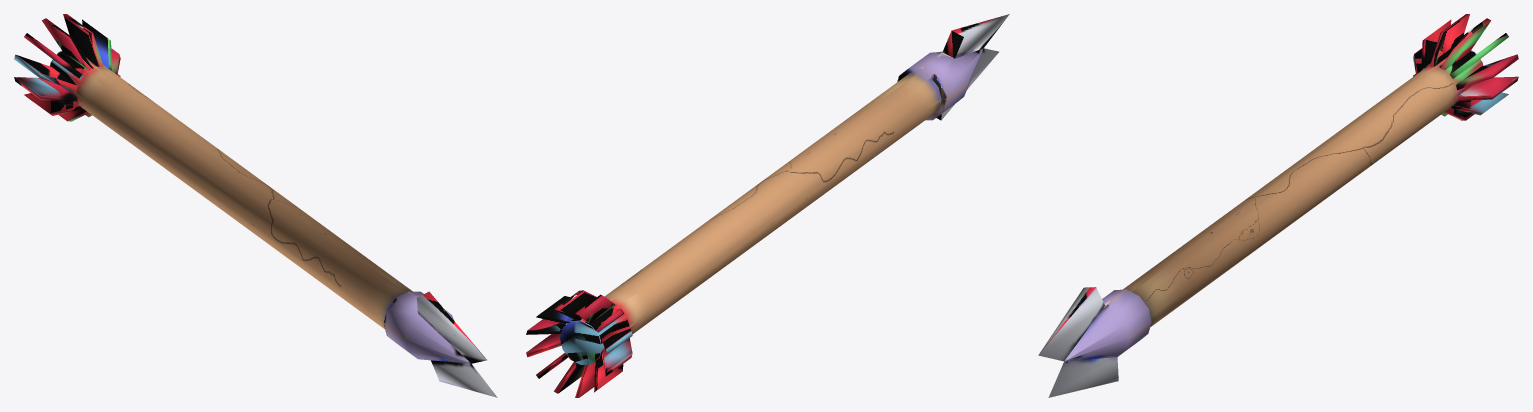
Rendered from Arrow.fbx.
The picture shows the model from 3 angles, left to right: view 1: azimuth 30°, elevation 25°; view 2: azimuth 150°, elevation 25°; view 3: azimuth 330°, elevation 25°; orthographic projection.
Visible parts, largest first — view 1: Cylinder; view 2: Cylinder; view 3: Cylinder.
Part boxes in pixels (box(x1,y1,x2,y2)): Cylinder: box(14, 14, 497, 397); Cylinder: box(526, 14, 1009, 397); Cylinder: box(1038, 14, 1518, 397).
Size of the model in its own units: 15.36 by 16.8 by 144.
1 material, 1 textured.
